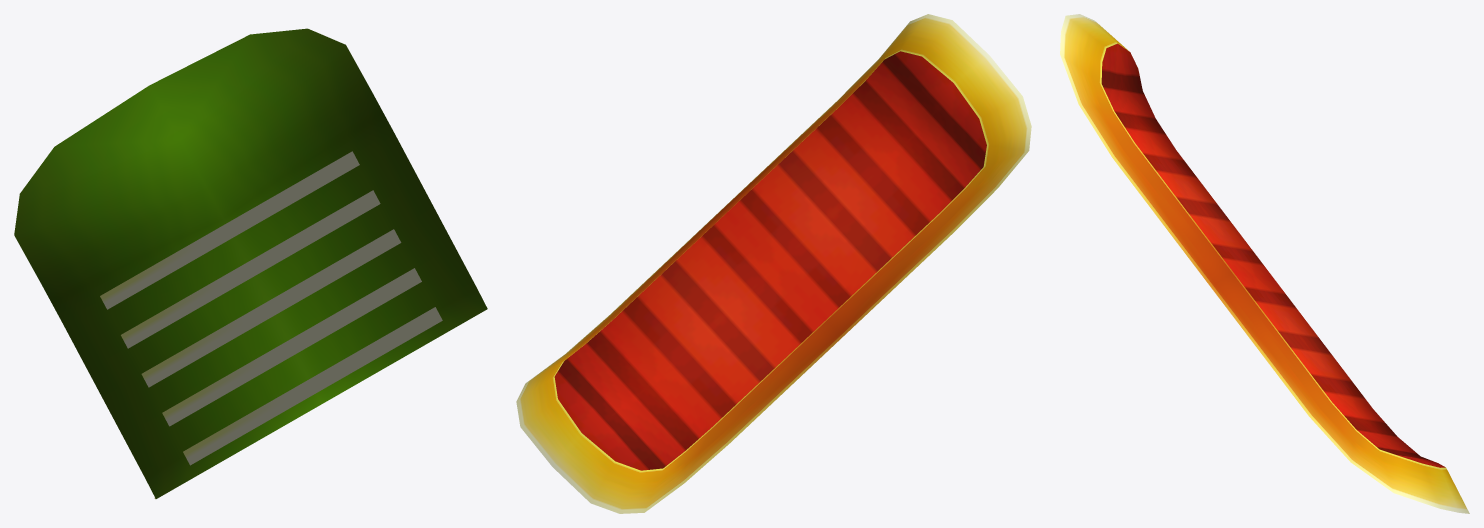
The model's file is hoverboard.fbx.
3 renders of one model, left to right at view 1: azimuth 30°, elevation 25°; view 2: azimuth 150°, elevation 25°; view 3: azimuth 270°, elevation 25°, orthographic. The views are drawn at different scales.
Visible parts, largest first — view 1: hoverboard; view 2: hoverboard; view 3: hoverboard.
Part boxes in pixels (bbox=[...]): hoverboard: bbox=[14, 28, 487, 499]; hoverboard: bbox=[516, 14, 1031, 513]; hoverboard: bbox=[1060, 14, 1469, 513].
Bounding box in the file's own units: 6.99 × 7.11 × 6.32.
